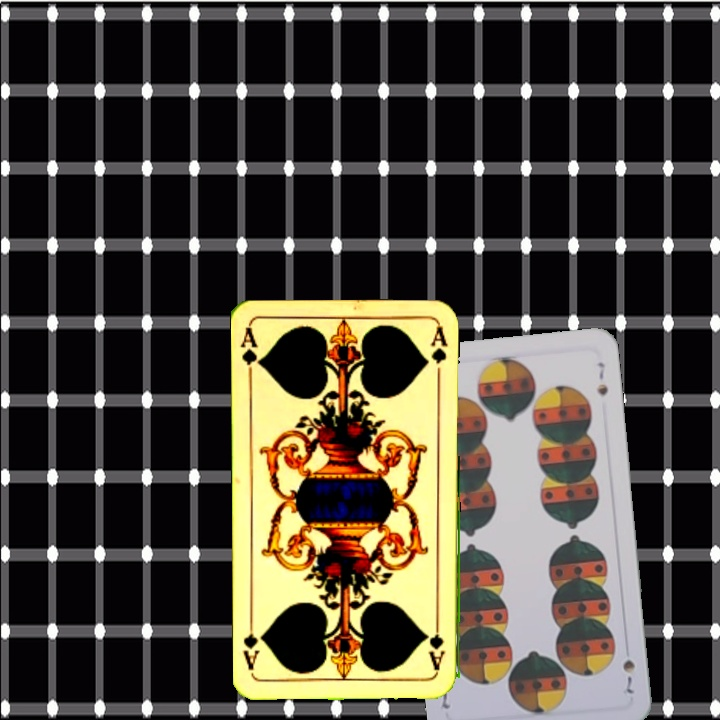GA: (238, 325, 265, 384), (425, 614, 447, 673)
S7: (618, 655, 638, 697)
